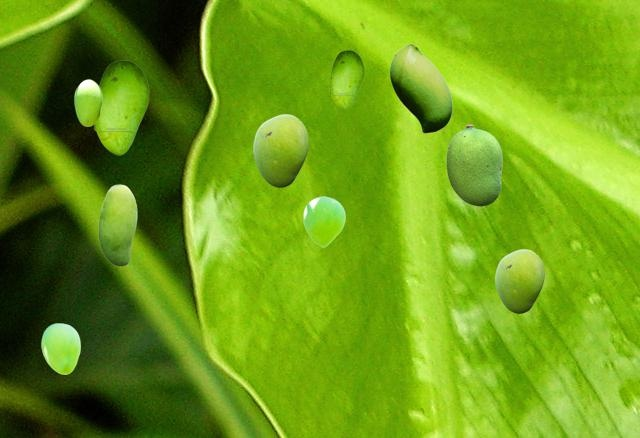green_mango: (389, 43, 451, 132), (93, 60, 148, 154), (446, 124, 501, 205), (253, 114, 307, 186), (98, 184, 136, 265), (495, 249, 543, 312), (303, 196, 344, 246), (329, 50, 363, 109), (41, 323, 79, 373), (74, 79, 101, 125)
